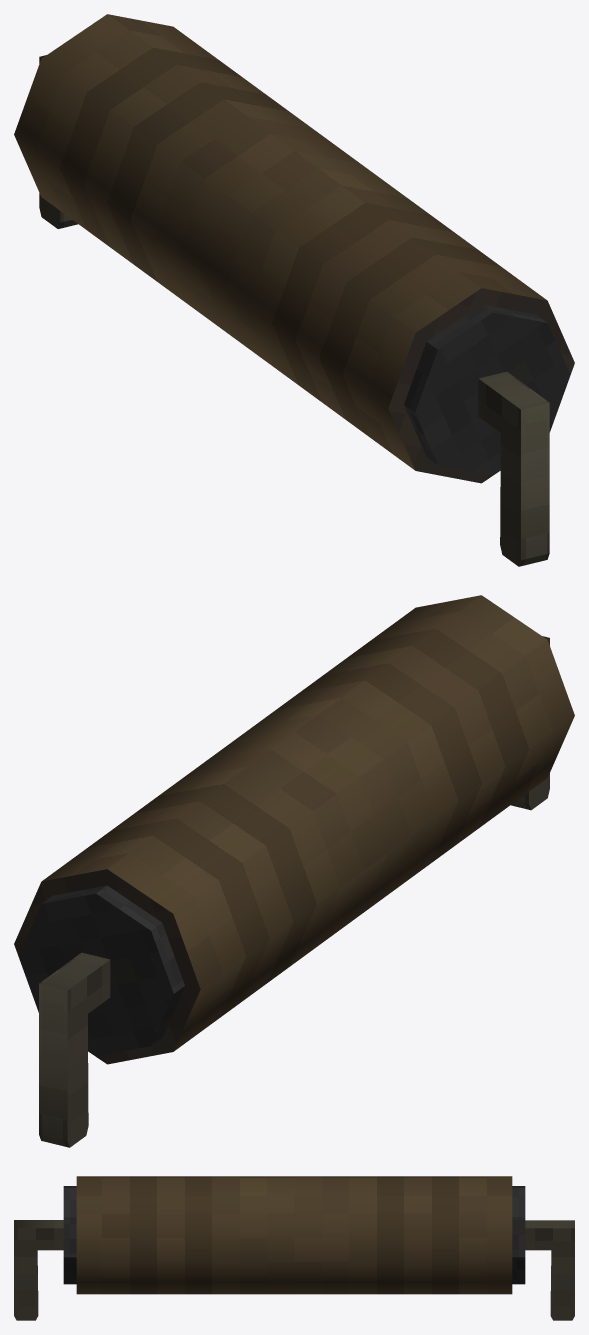
File: capacitor_etx_5_1.glb
3 views of the same model, one above another, from view 1: azimuth 30°, elevation 25°; view 2: azimuth 150°, elevation 25°; view 3: azimuth 270°, elevation 25° (orthographic). The views are drawn at different scales.
Visible parts, largest first — view 1: capacitor_etx_5_1; view 2: capacitor_etx_5_1; view 3: capacitor_etx_5_1.
Boxes of the visible parts, x1,y1,x2,y2 form: capacitor_etx_5_1: (14, 14, 574, 566); capacitor_etx_5_1: (14, 595, 574, 1147); capacitor_etx_5_1: (14, 1176, 574, 1320).
Bounding box in the file's own units: 0.0432 × 0.0525 × 0.1932.
1 material, 1 textured.
